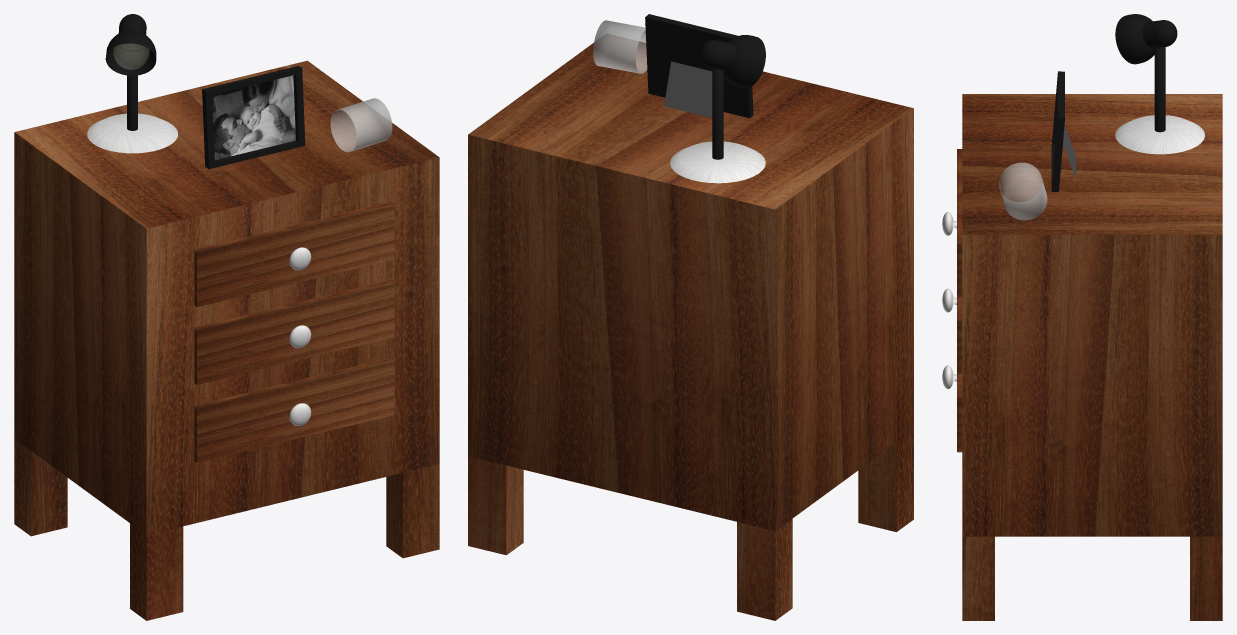
File: nightstand4.fbx
3 renders of one model, left to right at view 1: azimuth 30°, elevation 25°; view 2: azimuth 150°, elevation 25°; view 3: azimuth 270°, elevation 25°, orthographic. The views are drawn at different scales.
Visible parts, largest first — view 1: Nightstand, Picture Frame, Lamp.004, Cup.001; view 2: Nightstand, Picture Frame, Lamp.004, Cup.001; view 3: Nightstand, Lamp.004, Cup.001, Picture Frame.
Part boxes in pixels (bbox=[...]): Nightstand: bbox=[14, 60, 439, 620]; Picture Frame: bbox=[202, 66, 305, 169]; Lamp.004: bbox=[87, 14, 177, 153]; Cup.001: bbox=[330, 98, 392, 152]; Nightstand: bbox=[468, 41, 913, 620]; Picture Frame: bbox=[645, 14, 753, 118]; Lamp.004: bbox=[670, 35, 765, 183]; Cup.001: bbox=[593, 20, 647, 73]; Nightstand: bbox=[942, 94, 1222, 620]; Lamp.004: bbox=[1115, 14, 1204, 154]; Cup.001: bbox=[999, 162, 1047, 220]; Picture Frame: bbox=[1051, 71, 1076, 191].
Size of the model in its own units: 200 by 332 by 168.
